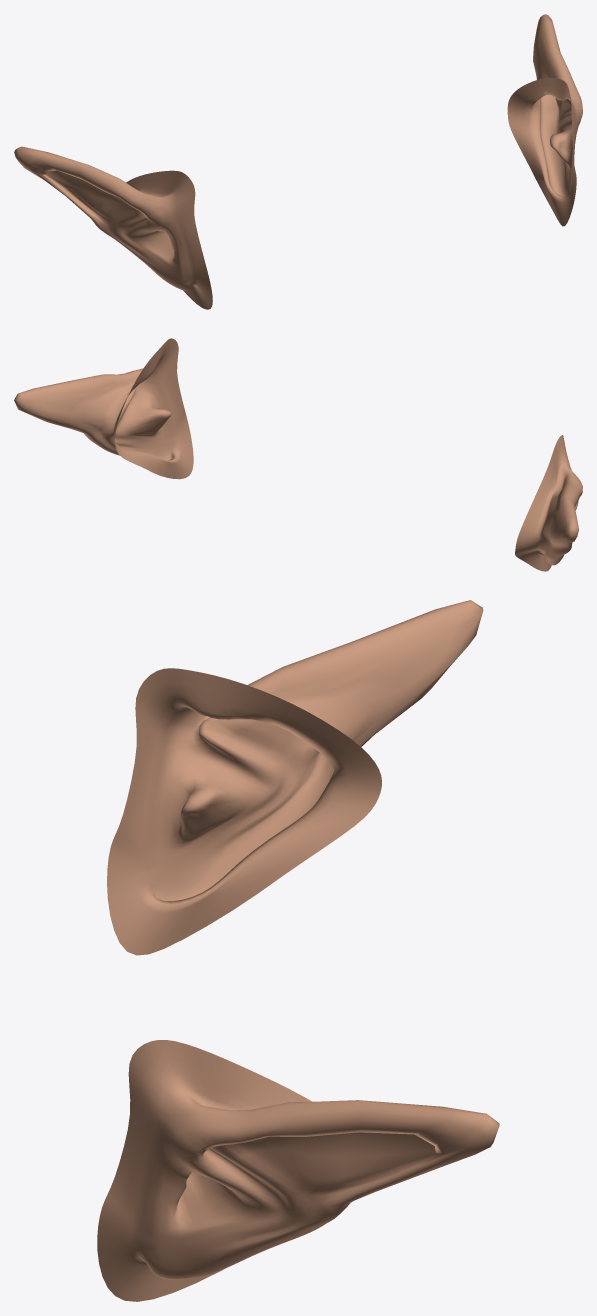
The model's file is human_male_model_elf_ears_3.fbx.
3 renders of one model, top to bottom at view 1: azimuth 30°, elevation 25°; view 2: azimuth 150°, elevation 25°; view 3: azimuth 270°, elevation 25°, orthographic. The views are drawn at different scales.
Parts seen in each view (by area): view 1: EAR1, EAR1.002; view 2: EAR1.002, EAR1; view 3: EAR1, EAR1.002.
Part boxes in pixels (<box>): EAR1: <box>14,146,212,309</box>; EAR1.002: <box>507,14,582,226</box>; EAR1.002: <box>14,338,193,479</box>; EAR1: <box>515,435,582,571</box>; EAR1: <box>107,600,483,955</box>; EAR1.002: <box>97,1040,499,1301</box>.
Bounding box in the file's own units: 21.21 × 5.12 × 6.86.
